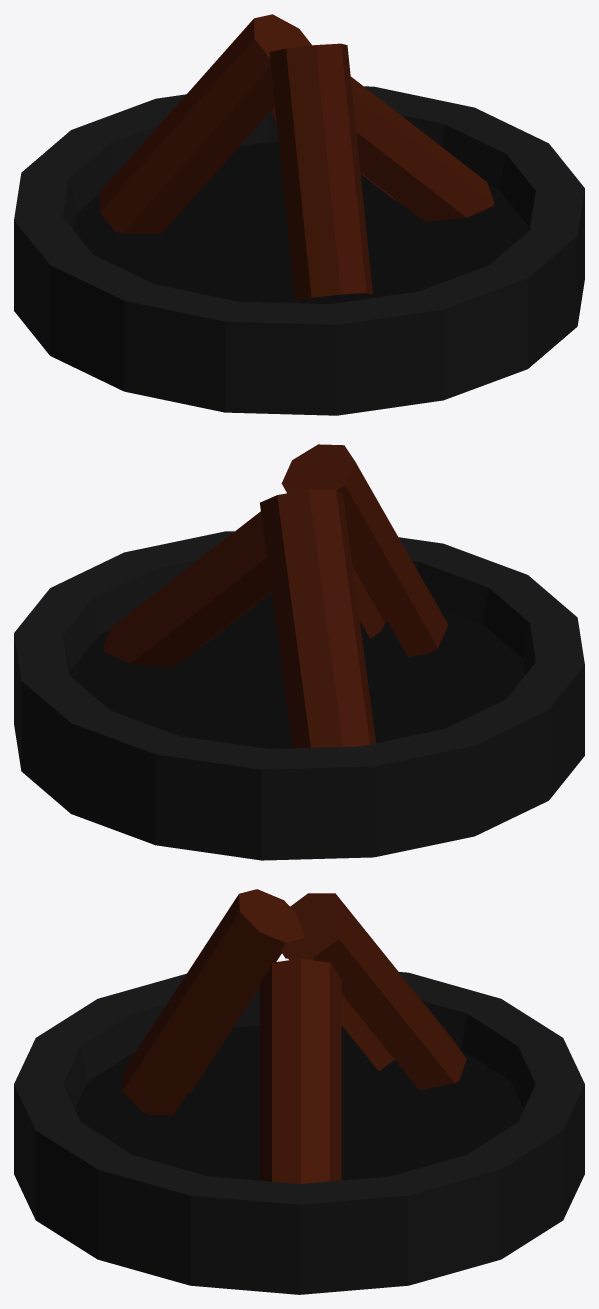
File: camp_fire.obj
The picture shows the model from 3 angles, top to bottom: view 1: azimuth 30°, elevation 25°; view 2: azimuth 150°, elevation 25°; view 3: azimuth 270°, elevation 25°; orthographic projection.
Parts seen in each view (by area): view 1: Cylinder; view 2: Cylinder; view 3: Cylinder.
Boxes of the visible parts, x1=… form: Cylinder: x1=14, y1=14, x2=584, y2=415; Cylinder: x1=14, y1=444, x2=584, y2=860; Cylinder: x1=14, y1=889, x2=584, y2=1294.
Bounding box in the file's own units: 0.773 × 0.4086 × 0.773.
